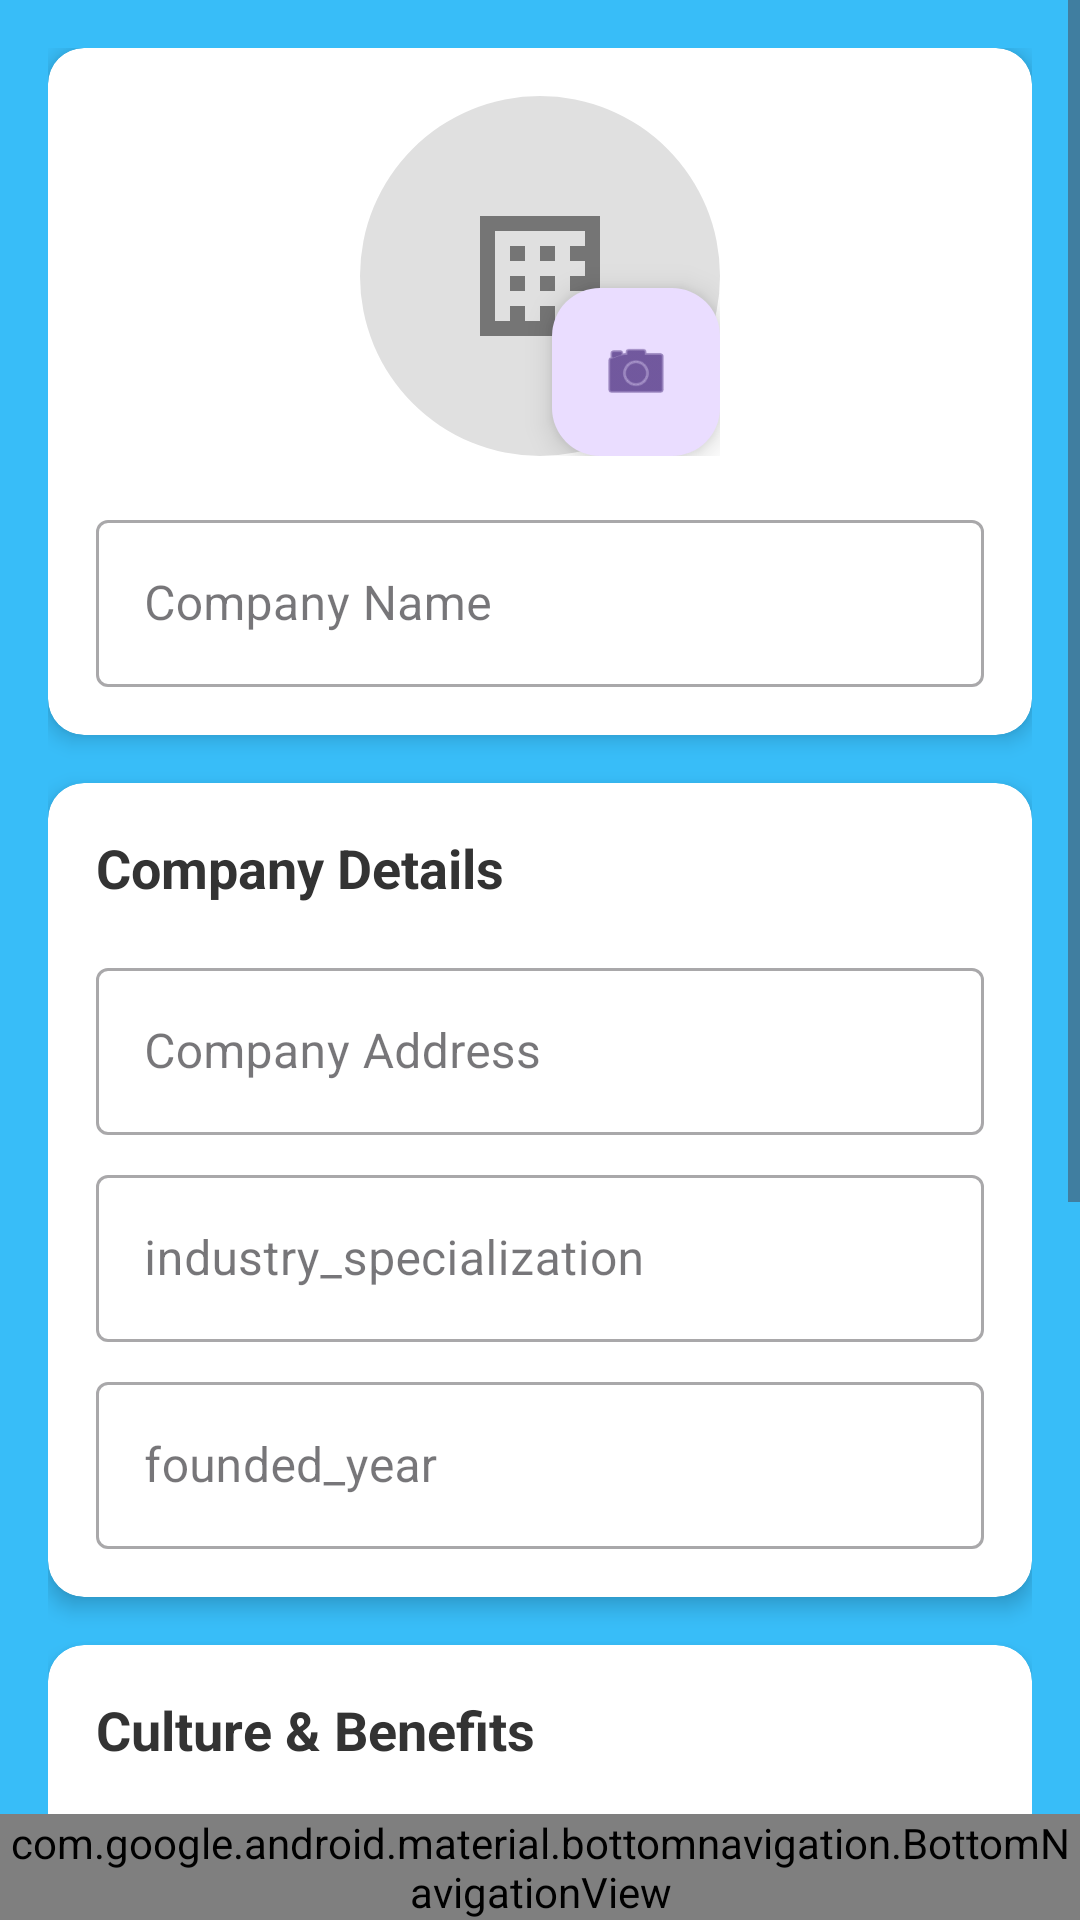

Where to tap for icons on this 1080px×1920px app screen, as [x,y]:
camera: [636,372]
